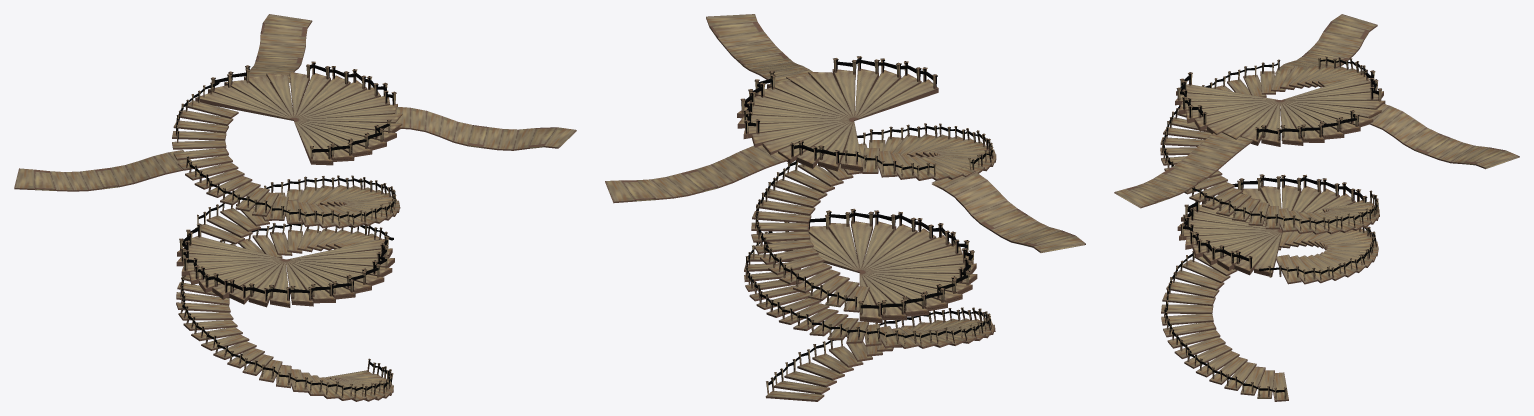
The model's file is merdiven.fbx.
3 views of the same model, side by side, from view 1: azimuth 30°, elevation 25°; view 2: azimuth 150°, elevation 25°; view 3: azimuth 270°, elevation 25° (orthographic). The views are drawn at different scales.
Visible parts, largest first — view 1: merdiven; view 2: merdiven; view 3: merdiven.
Part boxes in pixels (x1,y1,x2,y2): merdiven: (14,14,576,401); merdiven: (605,14,1085,401); merdiven: (1114,14,1519,401).
Size of the model in its own units: 36.88 by 22.25 by 29.36.
1 material, 1 textured.
